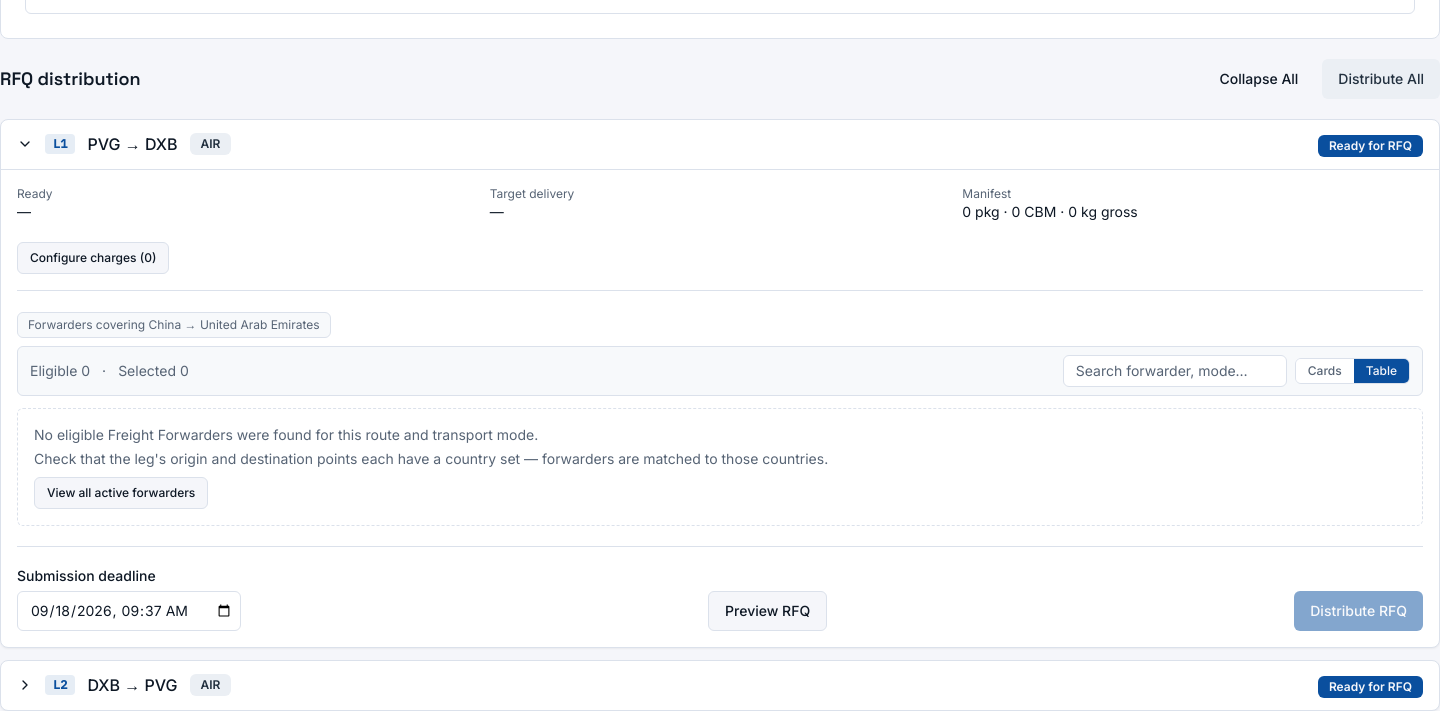
RfqWorkspace › single-expands legs (first open by default) and Collapse All closes them
(page scrolled)
Check: the number of fields labelled "Submission deadline" is 1, box top-left (17, 590), bottom-right (241, 630)
Note: open L2 → L1 collapses (still exactly one deadline field, now L2's)
Click the button "L2 DXB → PVG AIR Ready for RFQ" at x=60, y=685, box top-left (1, 660), bottom-right (1439, 710)
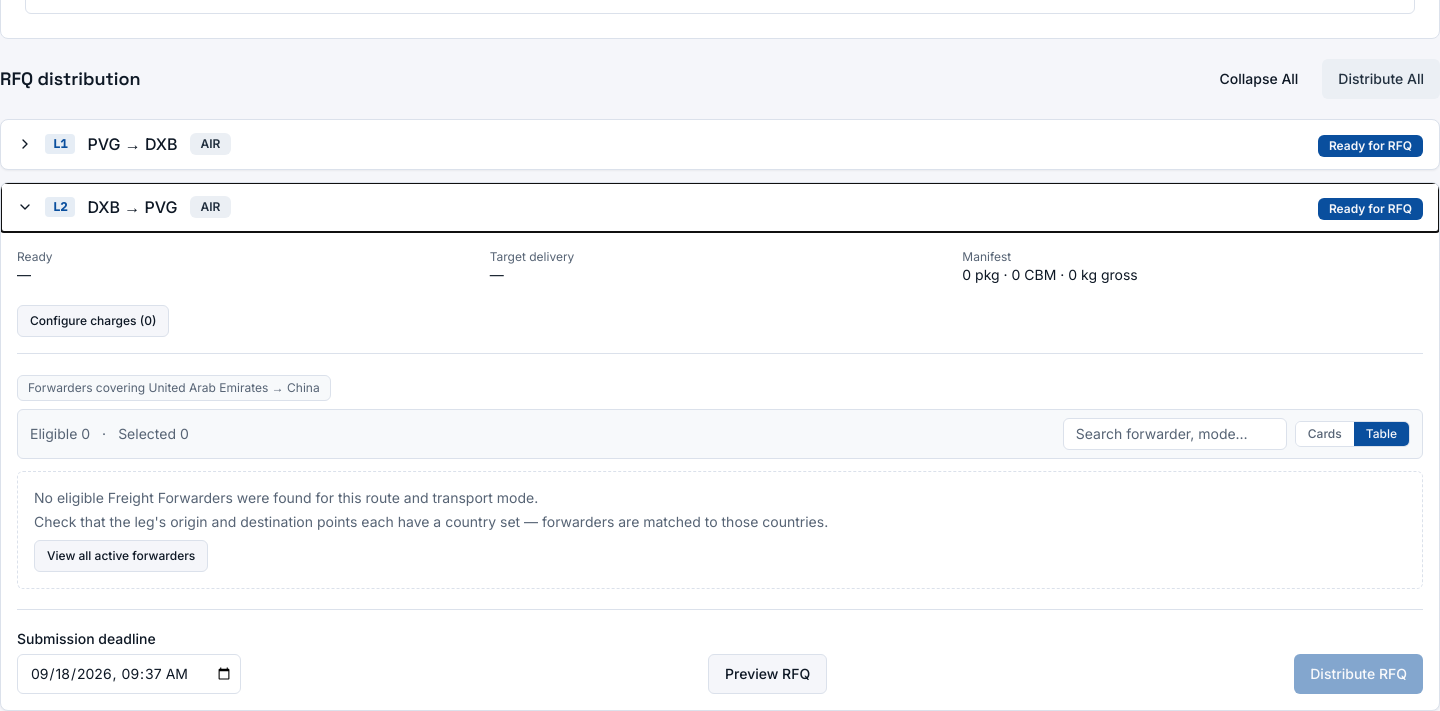
Check: the number of fields labelled "Submission deadline" is 1, box top-left (17, 654), bottom-right (241, 694)
Note: Collapse All → no open leg bodies
Click the button "Collapse All" at x=1259, y=78, box top-left (1204, 58), bottom-right (1314, 98)
(page scrolled)
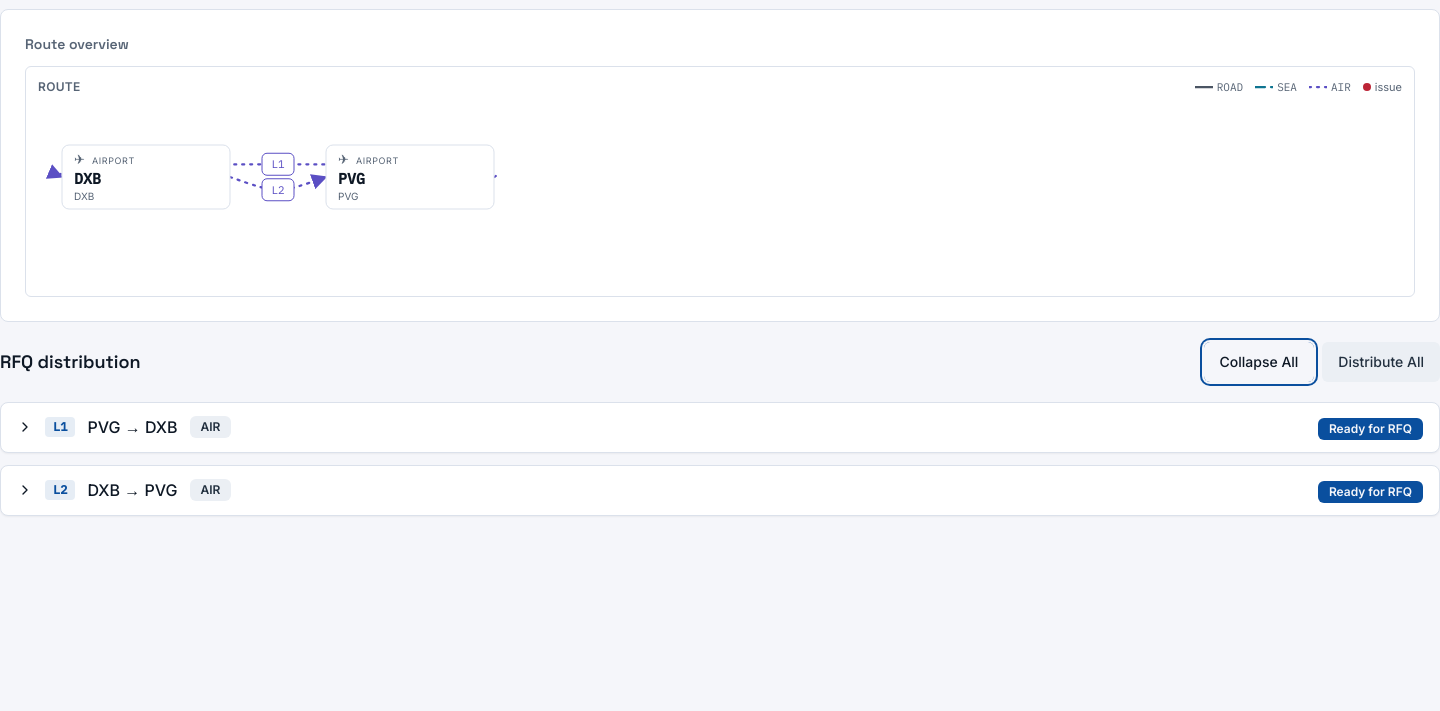
Check: the label labelled "Submission deadline" is gone
